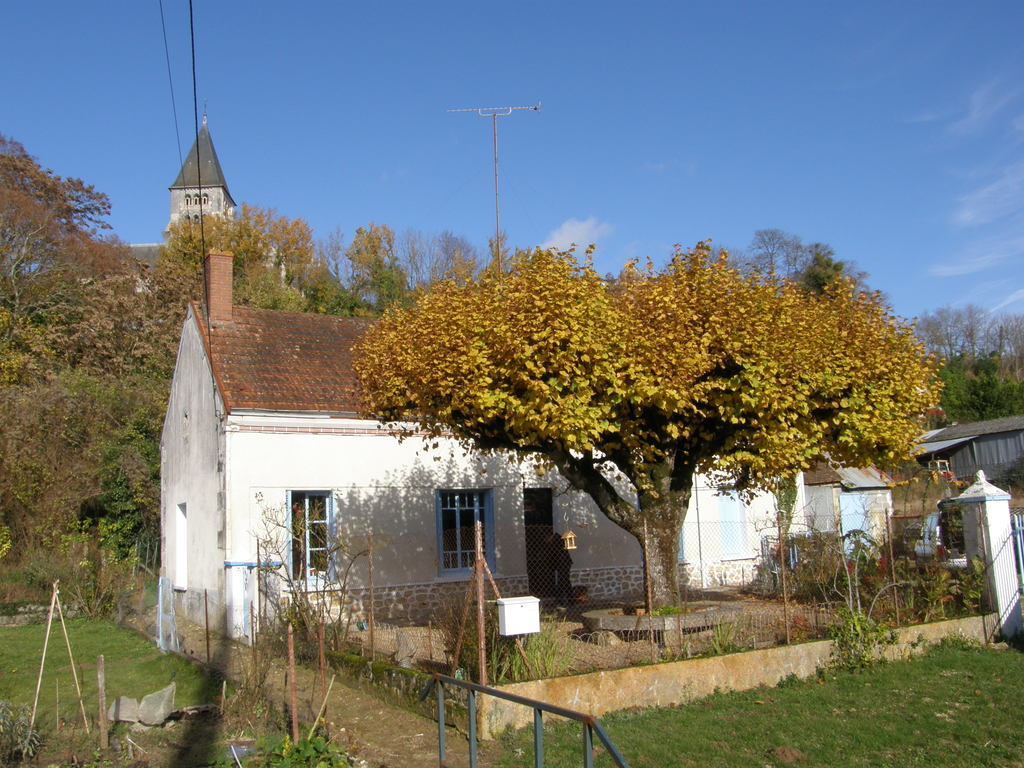Tree: (324, 190, 918, 618), (0, 138, 135, 323), (151, 197, 318, 305)
